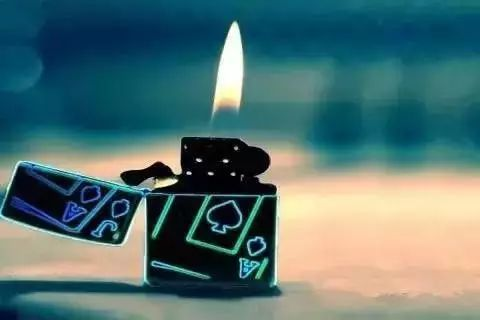Fire: (207, 19, 249, 134)
